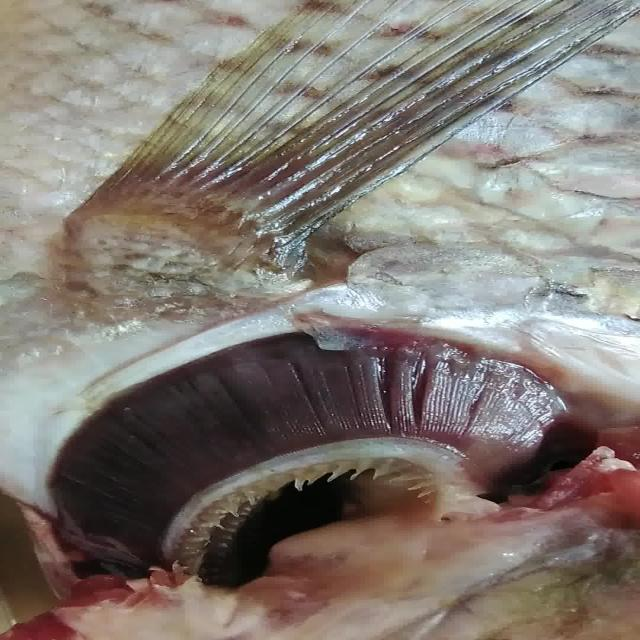Non-Fresh: (46, 331, 586, 562)
